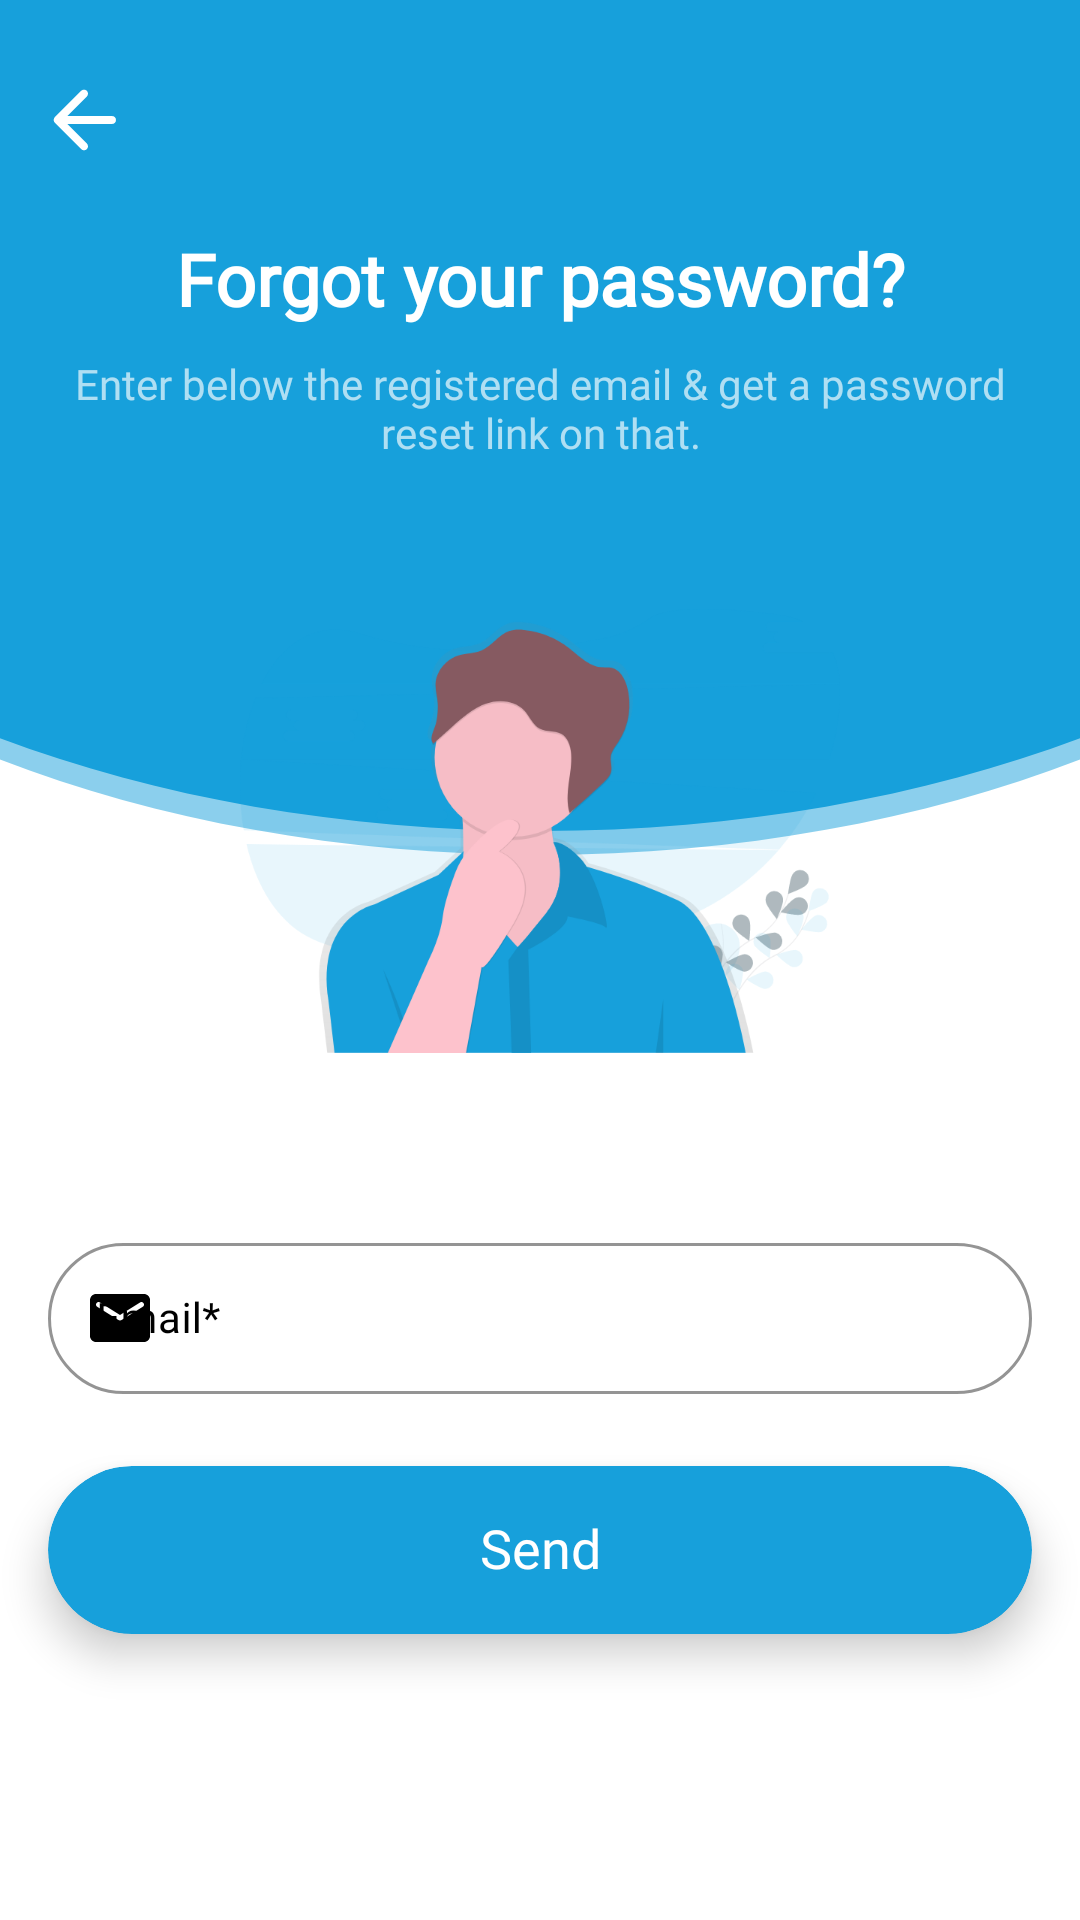

Where icons sit on this 1080px×1920px app screen, as Rect(x1, y1, x2, y2):
back: Rect(53, 89, 116, 151)
